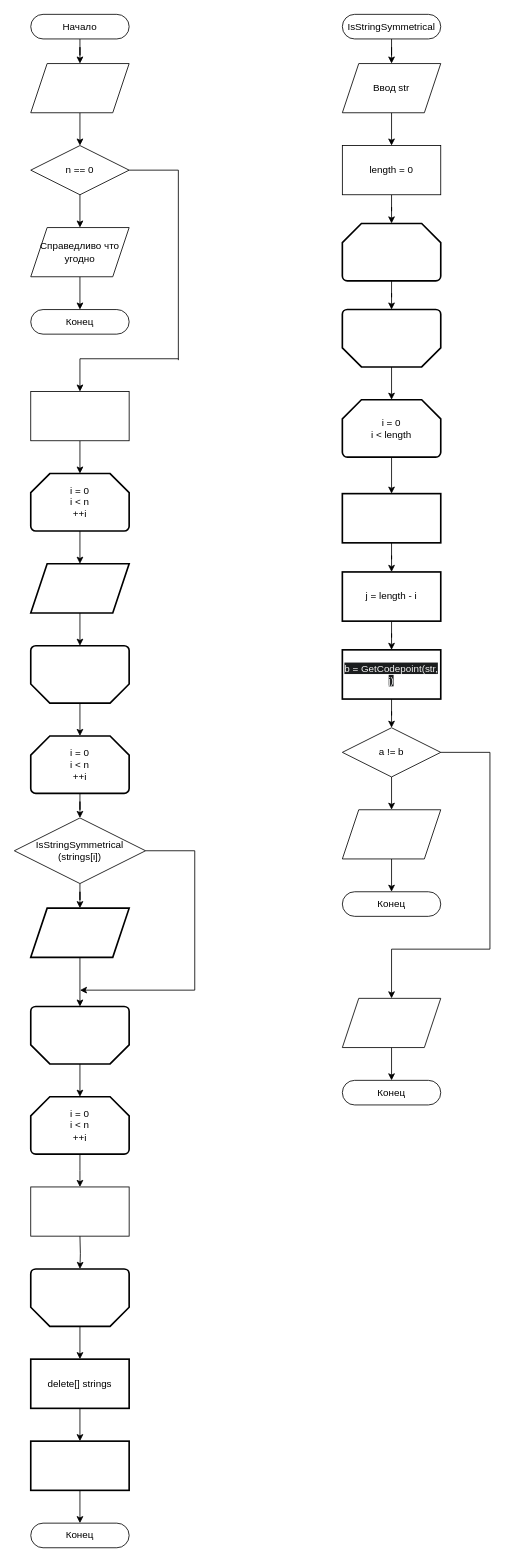
Image size: 505x1562. Some labels were removed from this diagram. The shapes that lost their labels are listed below. From the top down, each one's centre as x and y in pixels, then its label:
At (79,88): "Ввод n".
At (391,251): "length != '\0\ ++length".
At (79,416): "strings = new char*[n]".
At (391,517): "a = GetCodepoint(str, i)".
At (80,588): "Ввод strings[i]".
At (391,834): "false".
At (80,932): "Вывод strings[i]".
At (391,1023): "true".
At (79,1211): "delete[] strings[i]".
At (80,1465): "delete[] buf".
